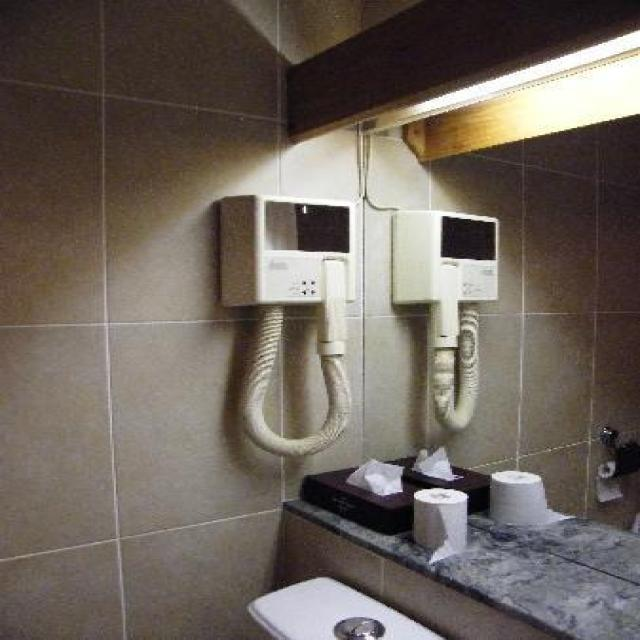dryer: (196, 181, 399, 468)
